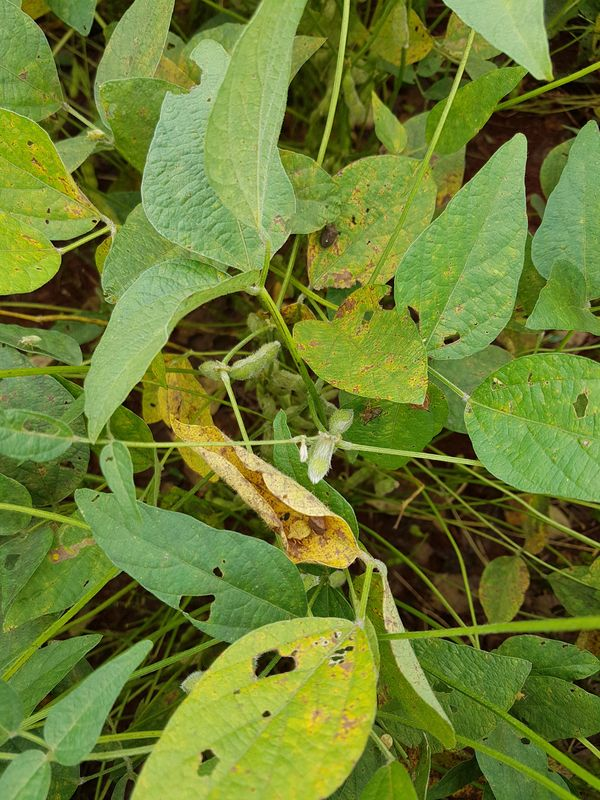Euschistus_heros_adulto: (315, 220, 346, 251), (356, 402, 386, 430), (405, 387, 433, 415), (310, 511, 331, 538)
Euschistus_heros_ninfa: (14, 330, 48, 358), (285, 516, 309, 547)
